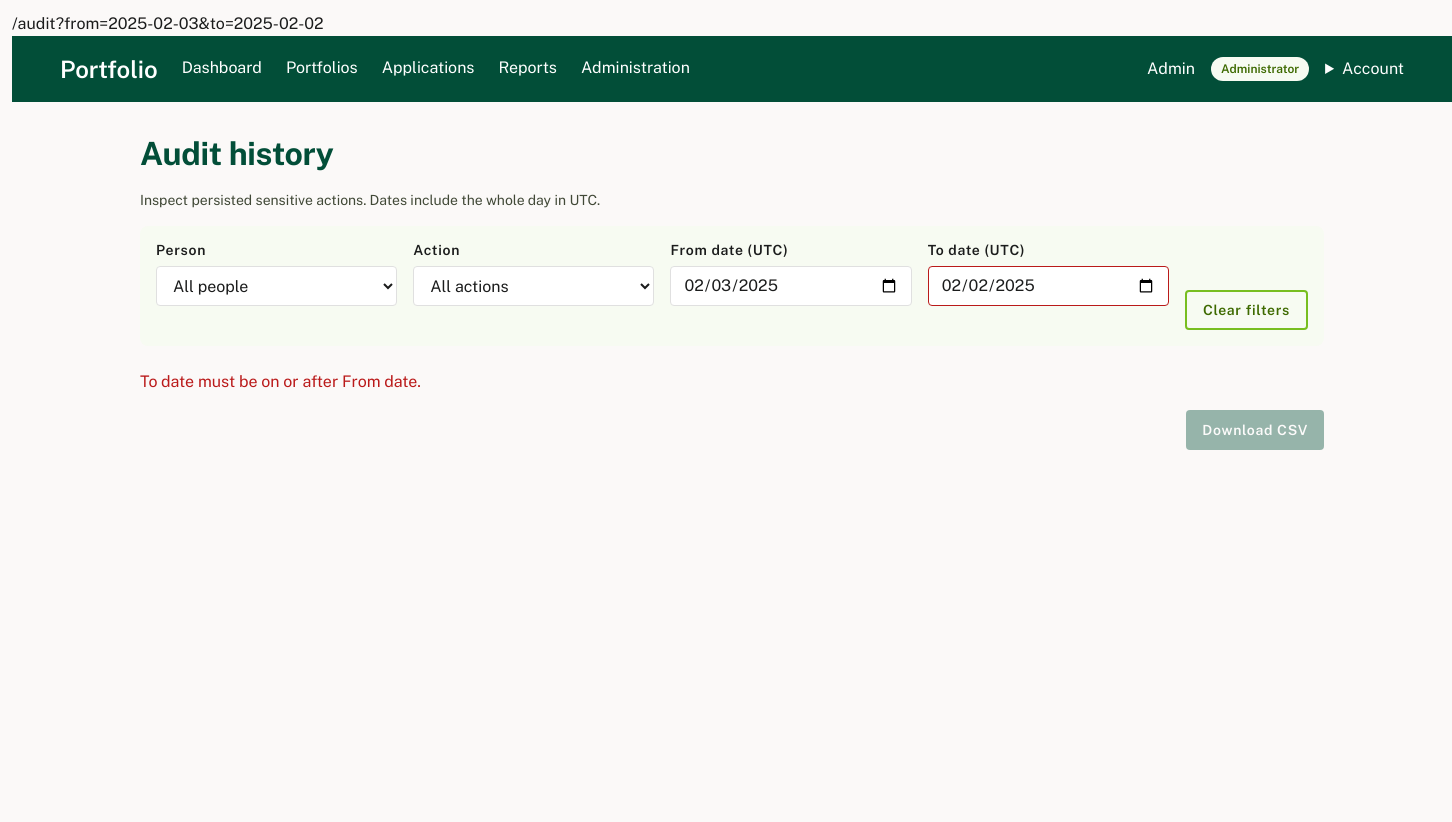
associates invalid interval error, blocks download and recovers after correction
Expected: the message reads "To date must be on or after From date.", [140,372,421,391]
Expected: the button "Download CSV" is disabled, [1186,410,1324,450]
Type "2025-02-02" into the date field labelled "From date (UTC)". click: (791, 286)
box: [670,266,912,306]
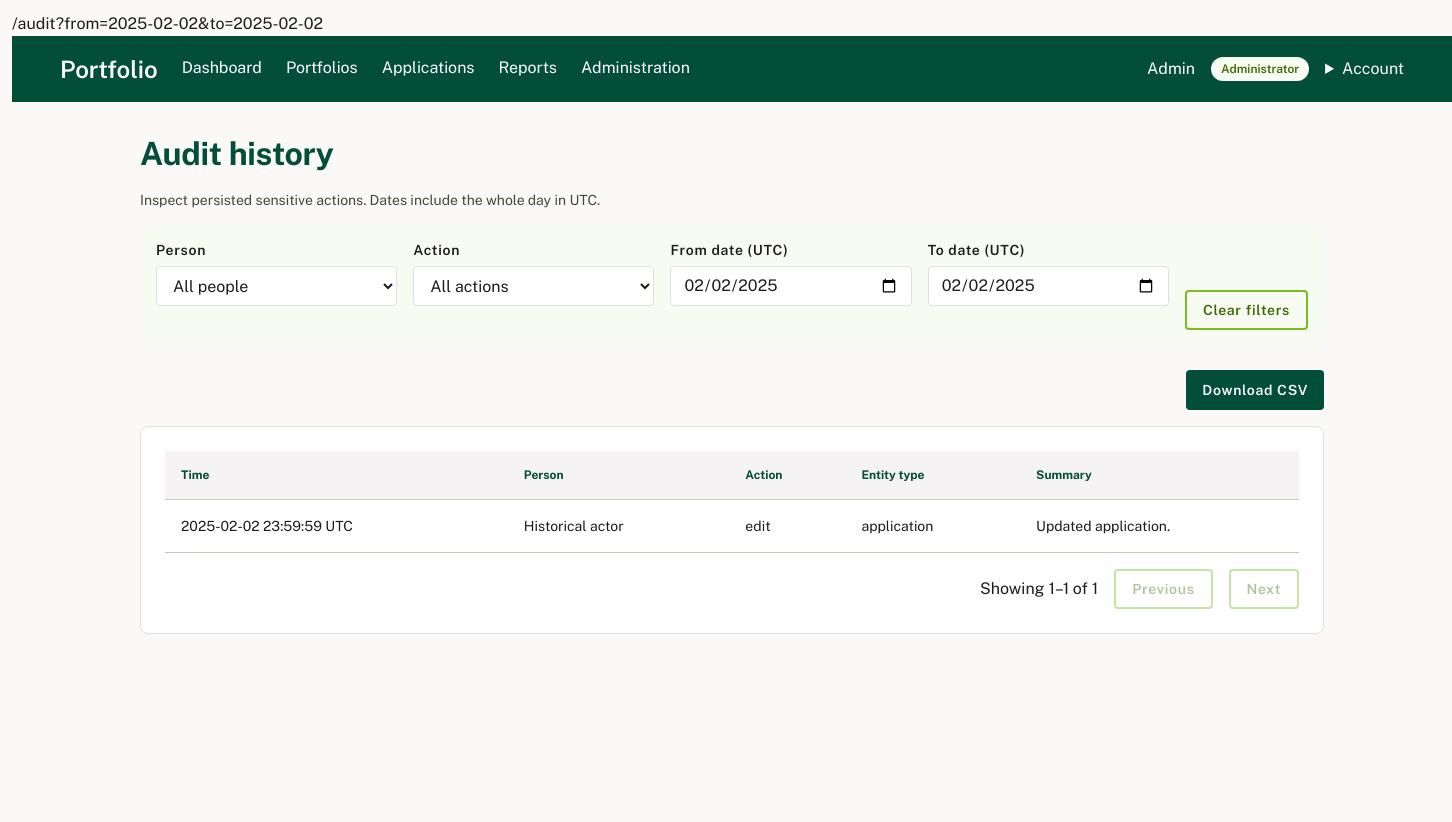
Expected: the table is shown, [165,451,1299,553]
